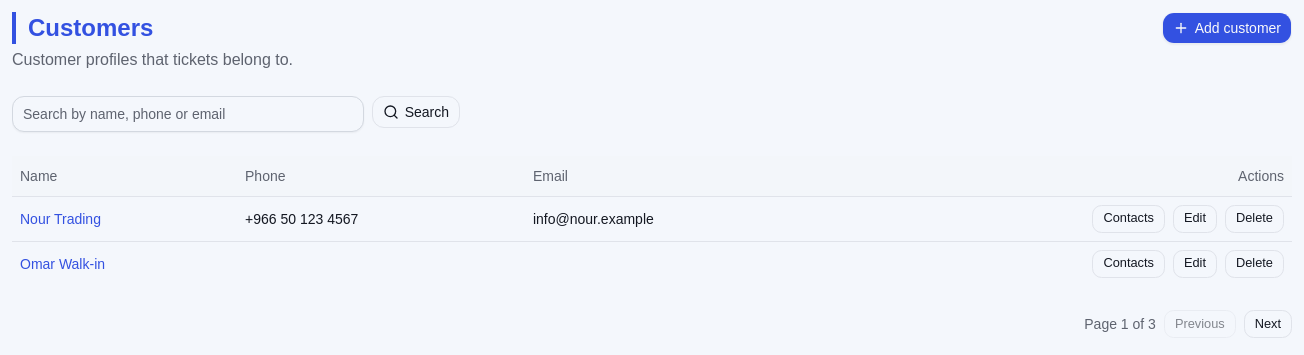
CustomersPage › pages through the results
Expected: the text "Page 1 of 3" is shown, [1084,314,1156,334]
Expected: the button "Previous" is disabled, [1164,310,1236,338]
Click the button "Next": (1268, 324) [1244,310,1292,338]
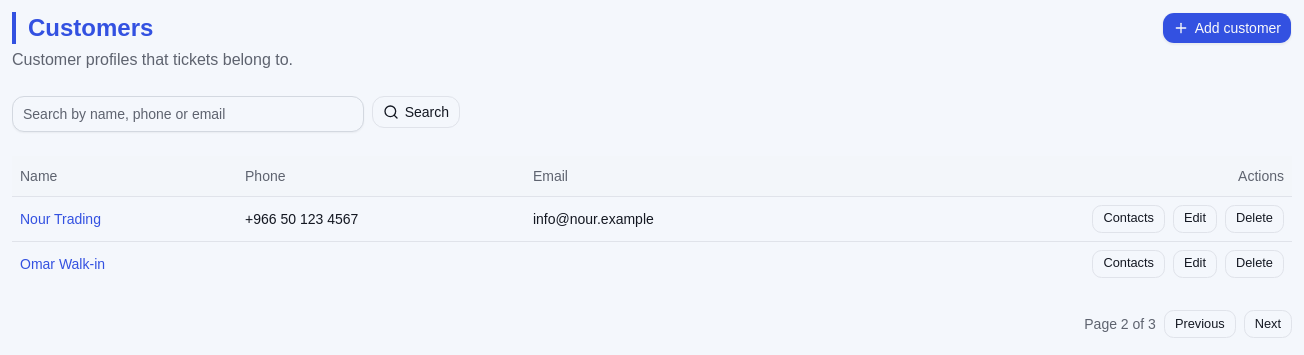
Expected: the text "Page 2 of 3" is shown, [1084,314,1156,334]
Expected: the button "Previous" is enabled, [1164,310,1236,338]
